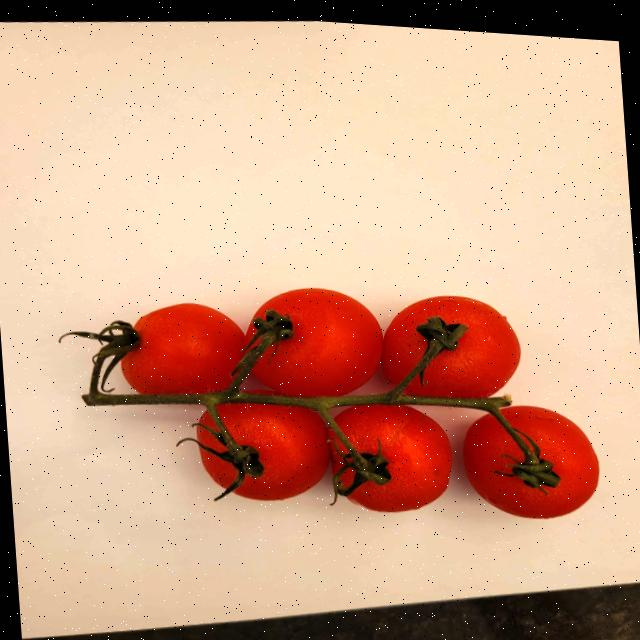ripe2: (463, 405, 598, 518), (248, 288, 383, 396), (381, 296, 520, 397), (328, 404, 451, 511), (121, 303, 246, 394), (217, 403, 331, 500), (195, 410, 237, 488)
